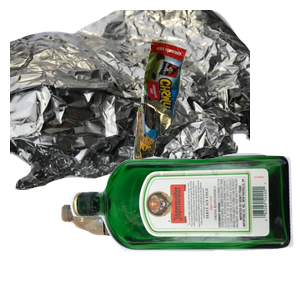glass: (67, 150, 300, 300)
metal: (10, 10, 250, 190)
plastic: (59, 193, 241, 300)
trash: (130, 34, 300, 203)
